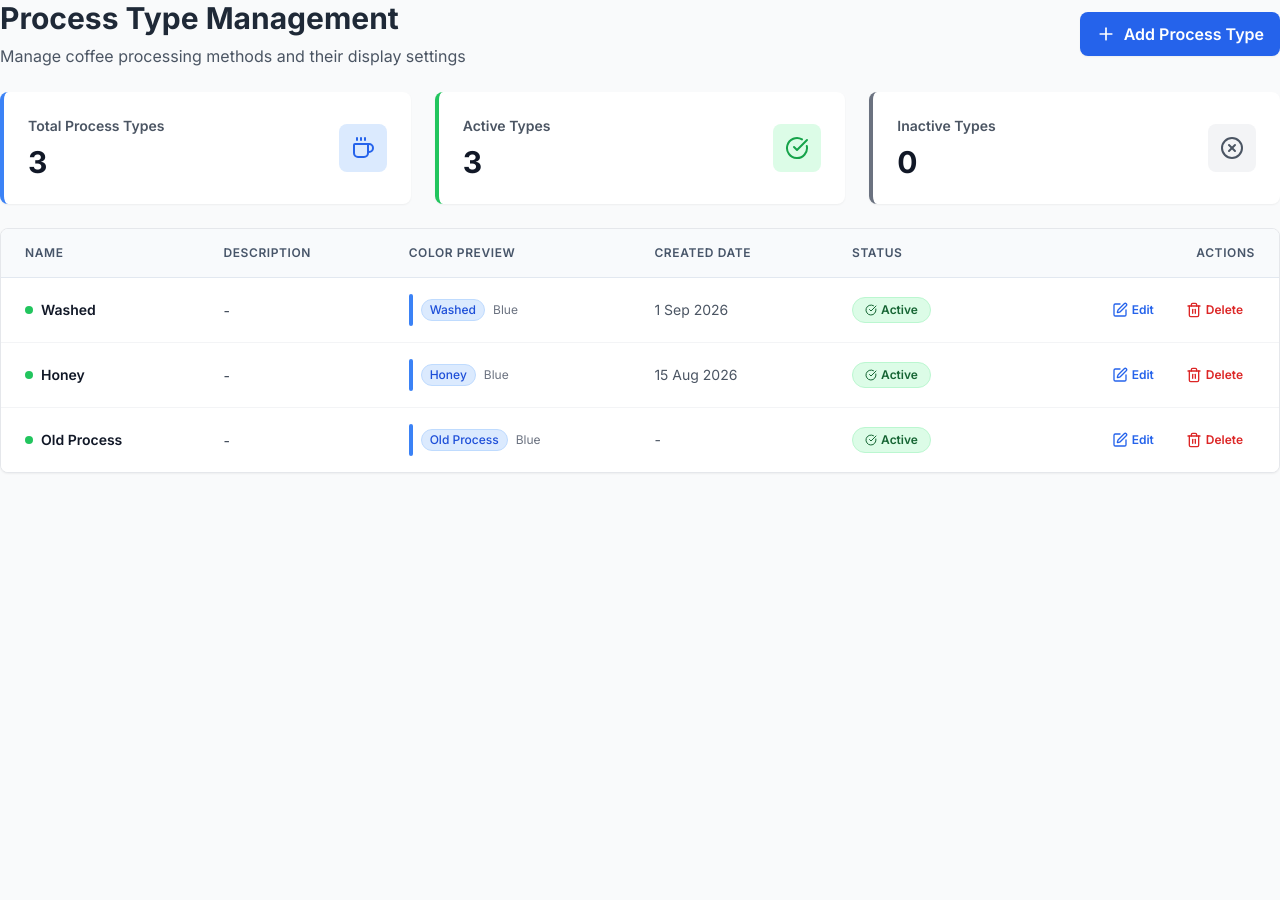
Scenario: Process type delete › asks in the site popup, waits on it while the delete runs, then removes the row
Click the button "Delete" in the row of "1 Sep 2026" at (1214, 310), box [1174,296,1255,324]
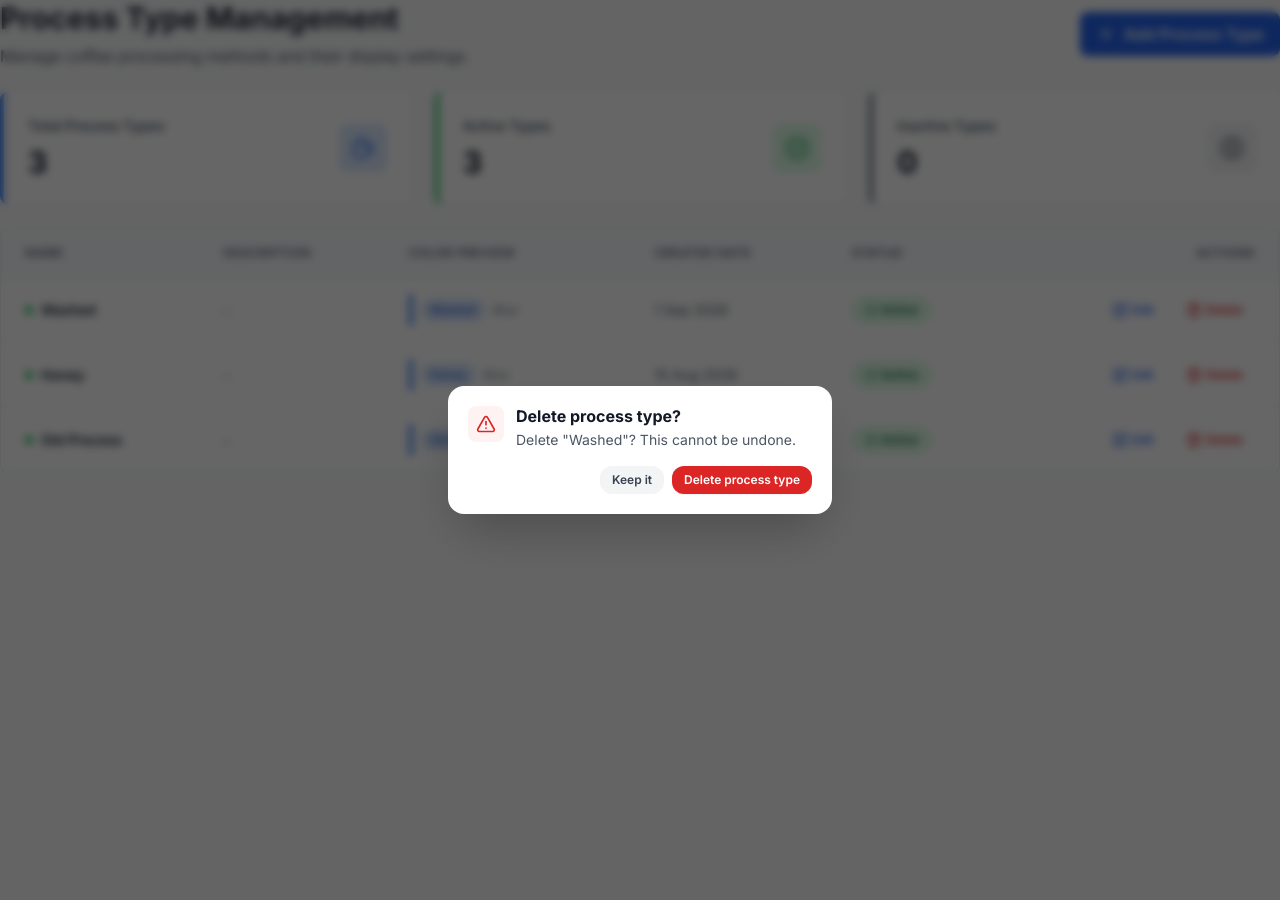
Result: the dialog "Delete process type?" shows "Delete \"Washed\"? This cannot be undone." at [516,431,796,448]
Click the button "Delete process type" at (742, 480), box [672,466,812,494]
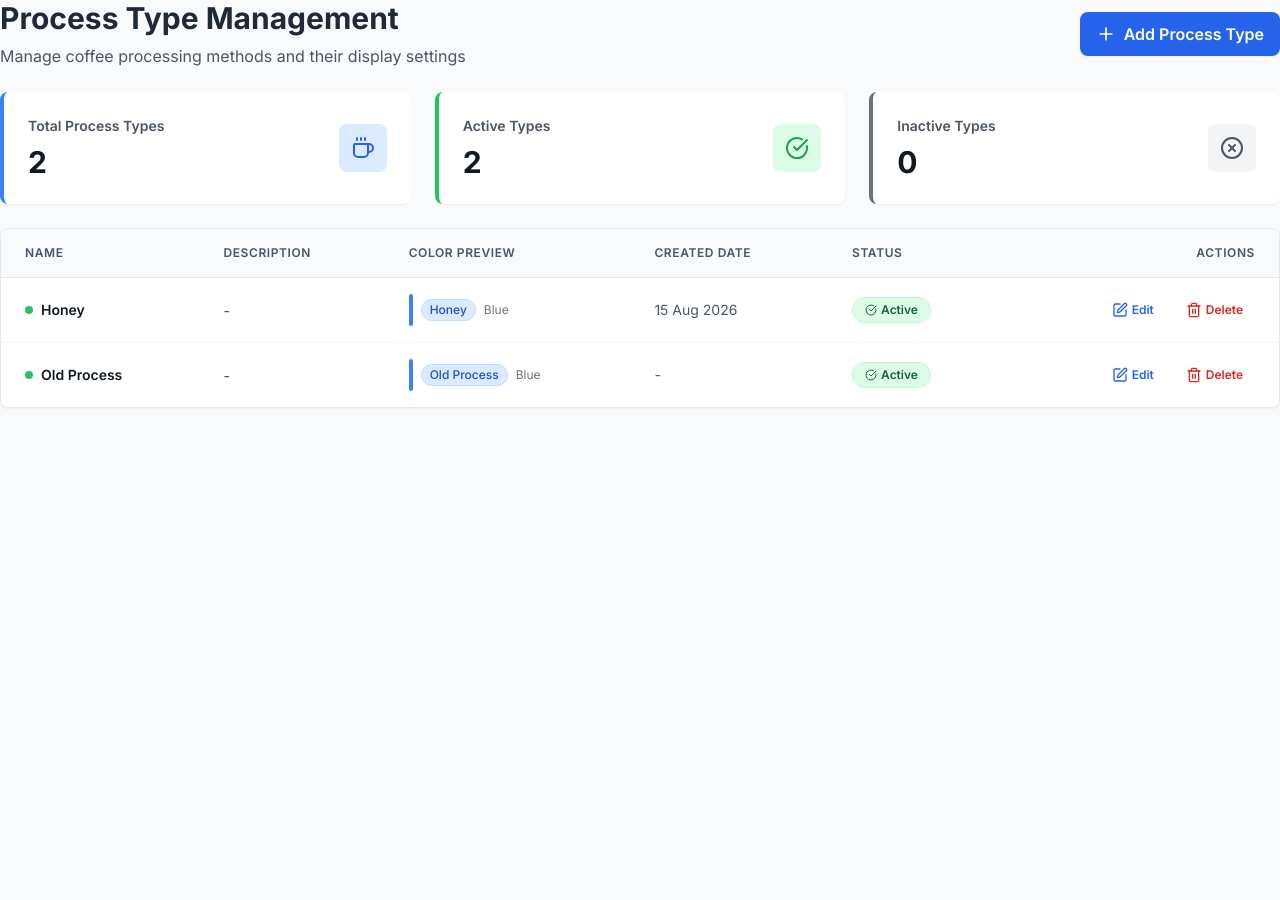
Result: the dialog is gone
Result: the text "Washed" is not shown
